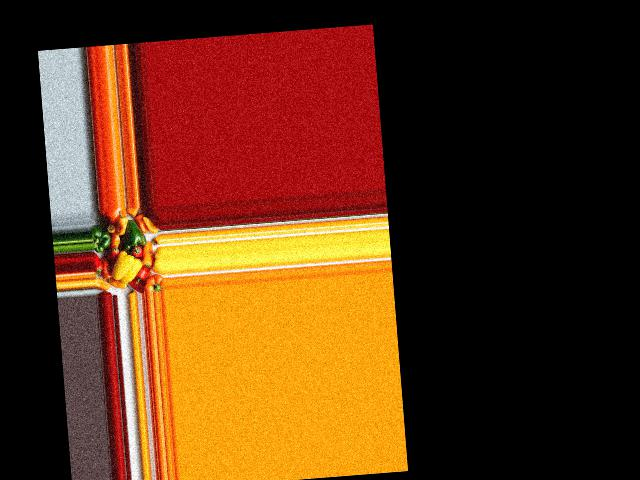bell_pepper: (91, 253, 105, 276)
